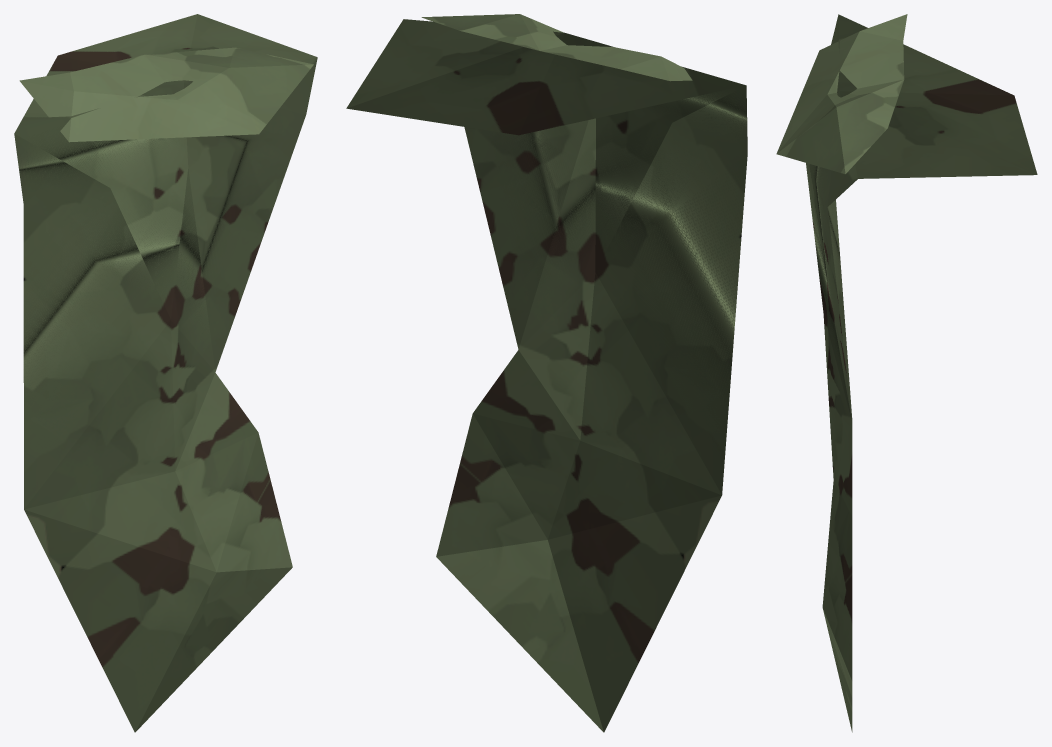
The model's file is SM_Gen_Env_Ivy_Draped_02.gltf.
The picture shows the model from 3 angles, left to right: view 1: azimuth 30°, elevation 25°; view 2: azimuth 150°, elevation 25°; view 3: azimuth 270°, elevation 25°; orthographic projection. The views are drawn at different scales.
Visible parts, largest first — view 1: SM_Gen_Env_Ivy_Draped_02; view 2: SM_Gen_Env_Ivy_Draped_02; view 3: SM_Gen_Env_Ivy_Draped_02.
Part boxes in pixels (x1,y1,x2,y2): SM_Gen_Env_Ivy_Draped_02: (14,14,317,732); SM_Gen_Env_Ivy_Draped_02: (346,14,747,732); SM_Gen_Env_Ivy_Draped_02: (776,14,1037,732).
Size of the model in its own units: 0.889 by 1.78 by 0.6236.
Materials: 1 (1 with a texture image).
